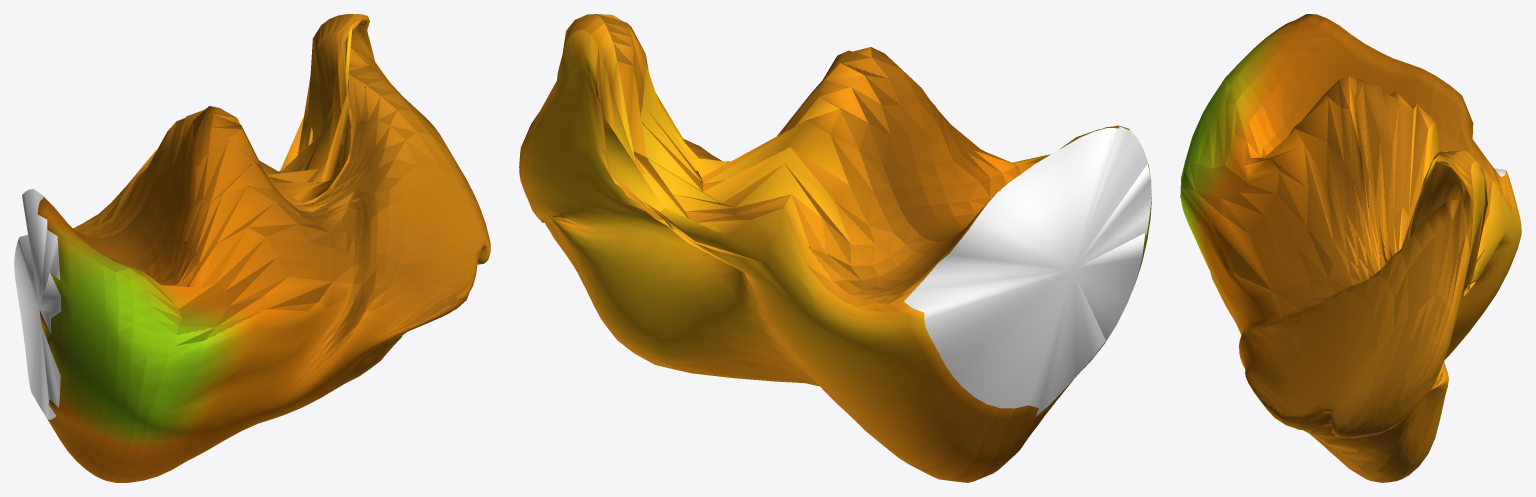
The model's file is confused_memory.glb.
3 renders of one model, left to right at view 1: azimuth 30°, elevation 25°; view 2: azimuth 150°, elevation 25°; view 3: azimuth 270°, elevation 25°, orthographic. The views are drawn at different scales.
Parts seen in each view (by area): view 1: confmemd; view 2: confmemd; view 3: confmemd.
Boxes of the visible parts, x1=… form: confmemd: x1=14, y1=14, x2=490, y2=482; confmemd: x1=519, y1=14, x2=1151, y2=482; confmemd: x1=1180, y1=14, x2=1521, y2=482.
Bounding box in the file's own units: 0.4356 × 0.316 × 0.2505.
Materials: 2 (2 with a texture image).
